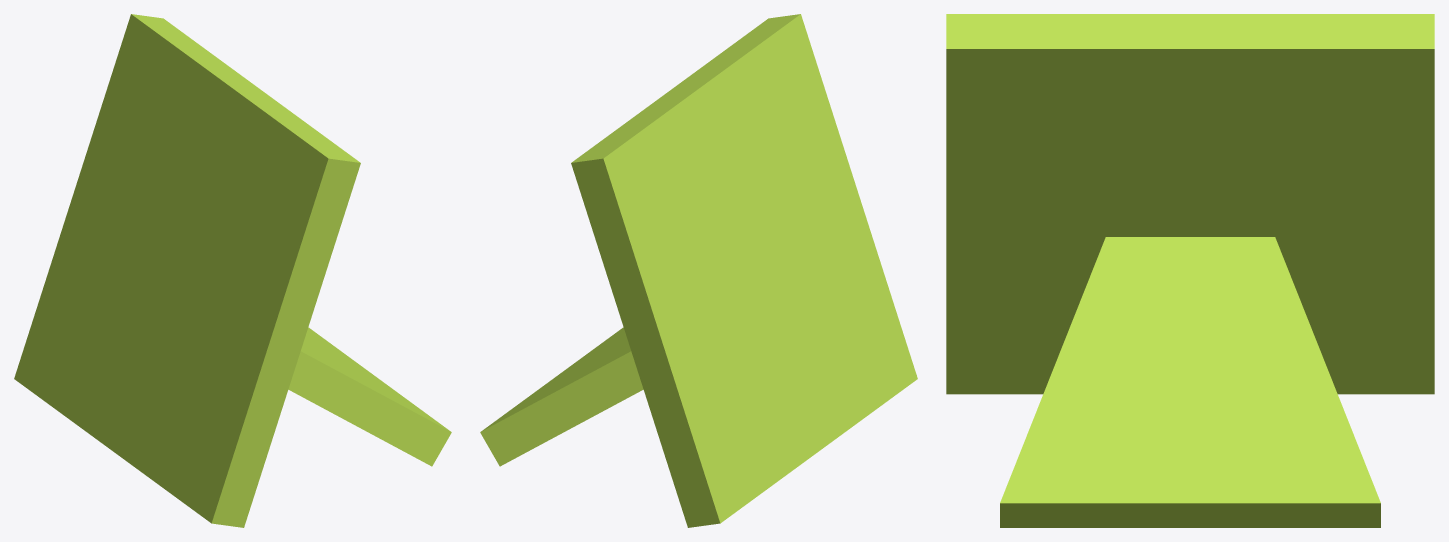
File: picture_table_convex.fbx
The picture shows the model from 3 angles, left to right: view 1: azimuth 30°, elevation 25°; view 2: azimuth 150°, elevation 25°; view 3: azimuth 270°, elevation 25°; orthographic projection. The views are drawn at different scales.
Visible parts, largest first — view 1: picture_table_convex, pictureconvex.001; view 2: picture_table_convex, pictureconvex.001; view 3: picture_table_convex, pictureconvex.001.
Boxes of the visible parts, x1,y1,x2,y2 form: picture_table_convex: (14,14,360,527); pictureconvex.001: (288,327,451,466); picture_table_convex: (571,14,917,527); pictureconvex.001: (480,327,643,466); picture_table_convex: (946,14,1434,394); pictureconvex.001: (1000,237,1380,527).
Size of the model in its own units: 4.57 by 5.96 by 5.9.
